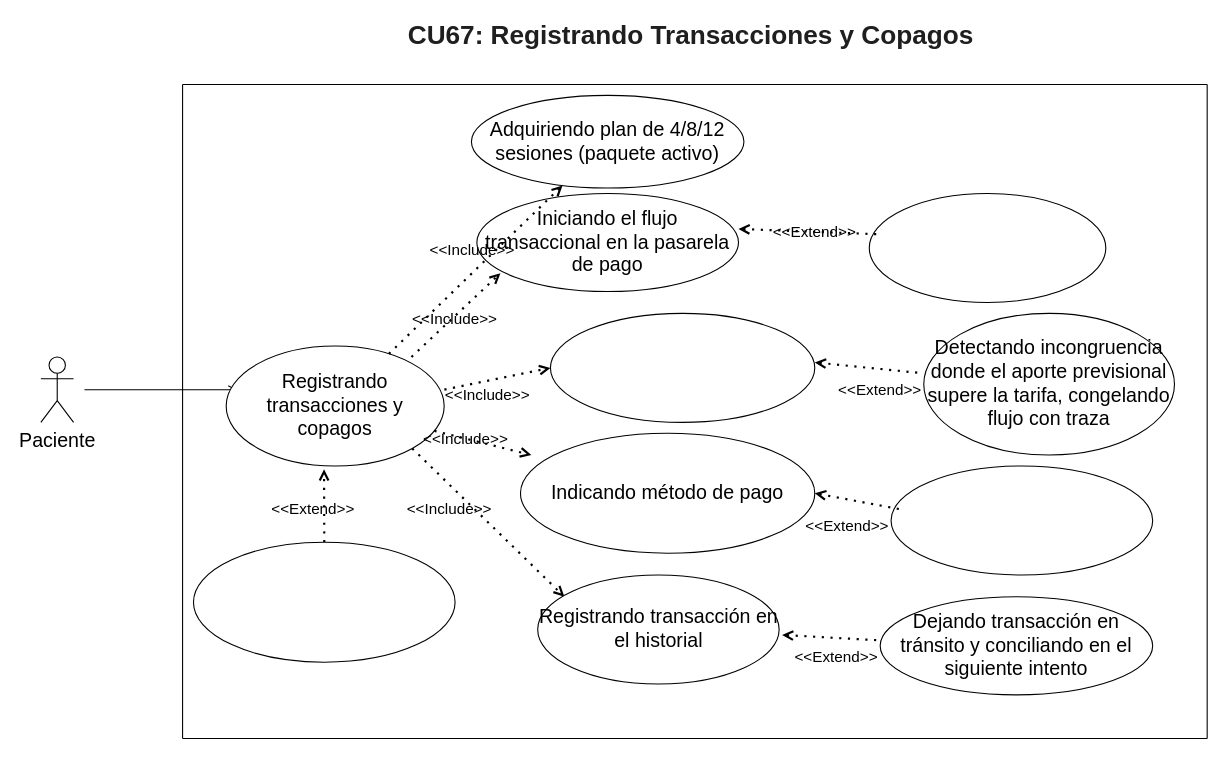
This 1227x759 diagram has some shape labels left out. The shapes that lost their labels are listed below. From the top down, each one's box as (x1, y1, x2, y2) in pixels, then its label:
(868, 192, 1106, 302): Perdiendo conexion de proveedor de internet
(549, 312, 815, 422): Deduciendo el aporte previsional y mostrando el copago
(890, 465, 1153, 575): Empleando credencial rechazada por la entidad bancaria
(192, 541, 455, 662): Reteniendo el estado de la deuda para recargar el flujo de pago
